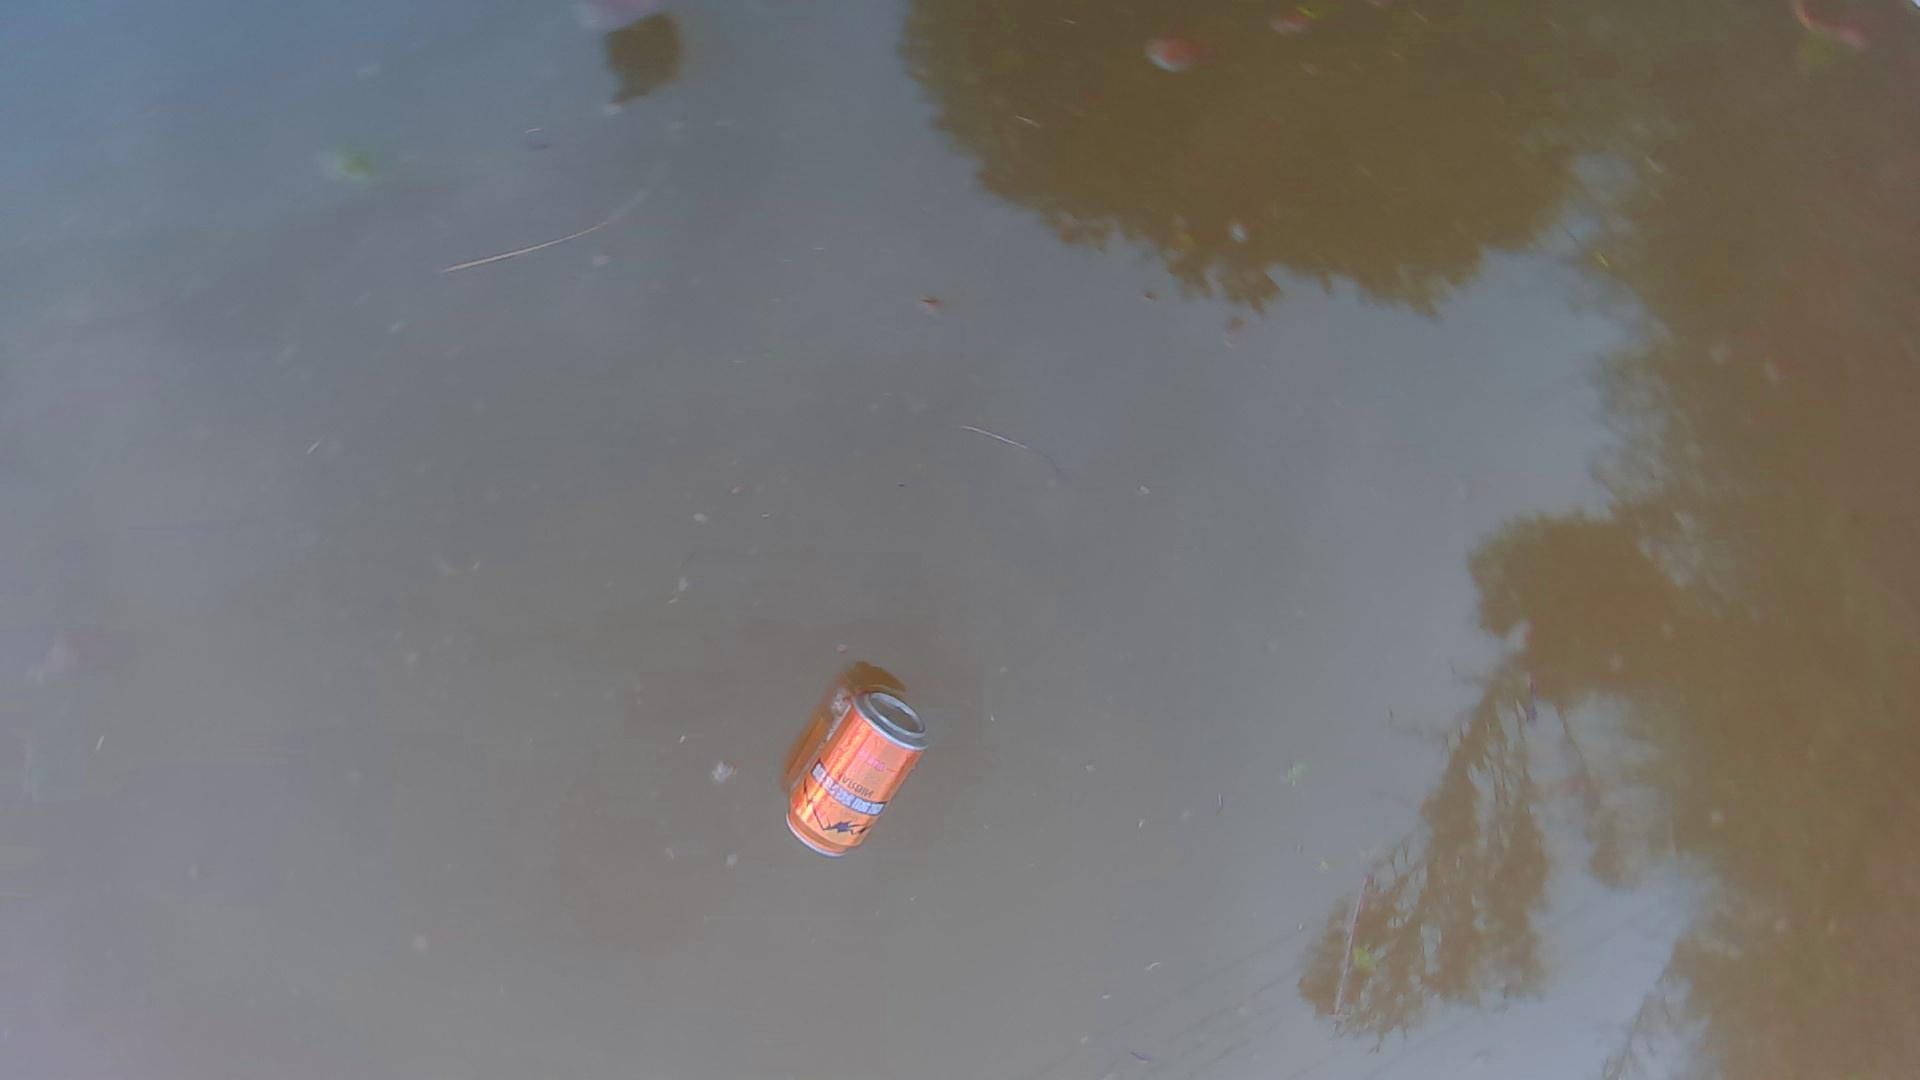Metal: (775, 687, 935, 868)
